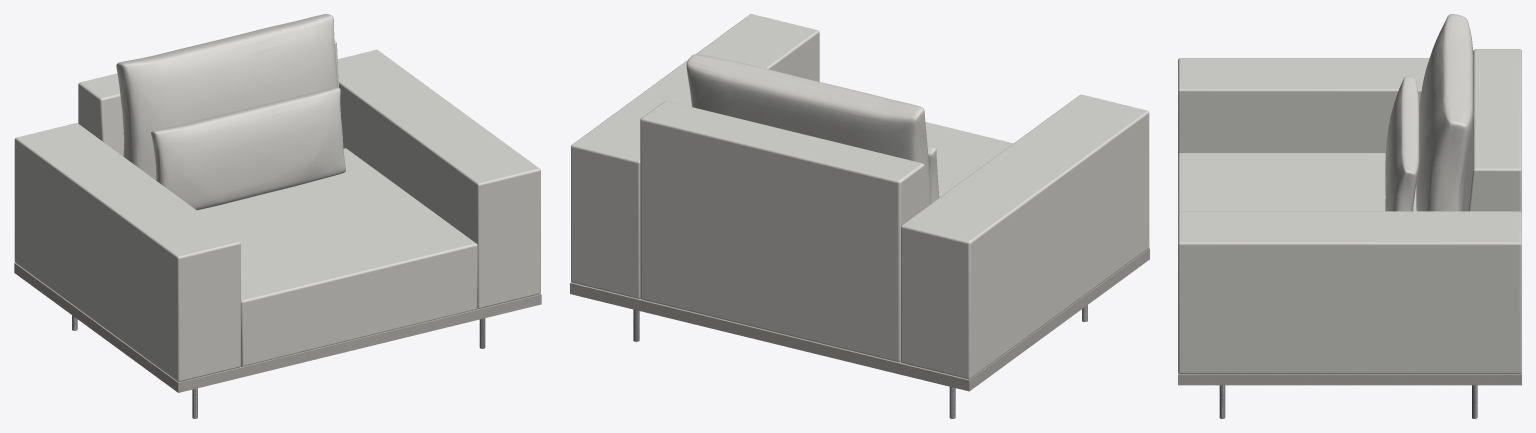
Rendered from double_arm_1.glb.
The picture shows the model from 3 angles, left to right: view 1: azimuth 30°, elevation 25°; view 2: azimuth 150°, elevation 25°; view 3: azimuth 270°, elevation 25°; orthographic projection. The views are drawn at different scales.
Visible parts, largest first — view 1: instance_0.001, instance_0, instance_0.010, instance_0.009, instance_0.002; view 2: instance_0.001, instance_0, instance_0.010, instance_0.002; view 3: instance_0, instance_0.001, instance_0.010, instance_0.002, instance_0.009.
Boxes of the visible parts, bbox=[...] form: instance_0.001: bbox=[14, 41, 477, 382]; instance_0: bbox=[337, 49, 540, 308]; instance_0.010: bbox=[116, 14, 337, 179]; instance_0.009: bbox=[151, 87, 345, 210]; instance_0.002: bbox=[14, 263, 541, 392]; instance_0.001: bbox=[640, 94, 1149, 379]; instance_0: bbox=[571, 14, 819, 298]; instance_0.010: bbox=[686, 54, 930, 206]; instance_0.002: bbox=[570, 248, 1149, 391]; instance_0: bbox=[1178, 211, 1521, 373]; instance_0.001: bbox=[1178, 49, 1521, 212]; instance_0.010: bbox=[1416, 14, 1473, 211]; instance_0.002: bbox=[1178, 373, 1521, 385]; instance_0.009: bbox=[1385, 76, 1419, 211].
Size of the model in its own units: 1.15 by 0.799 by 0.9.
3 materials, 2 textured.
